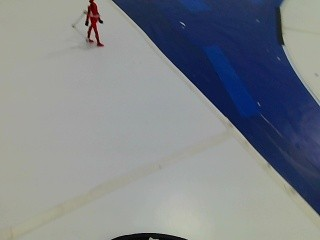pedestrian: (77, 0, 113, 51)
